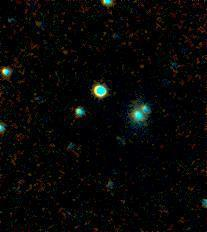star: (103, 123, 133, 153)
